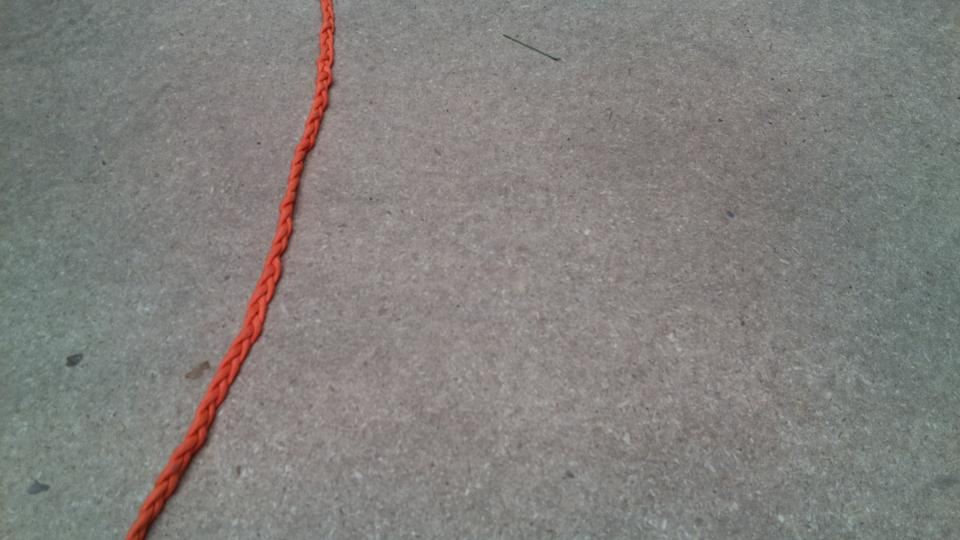rope: (122, 1, 345, 540)
